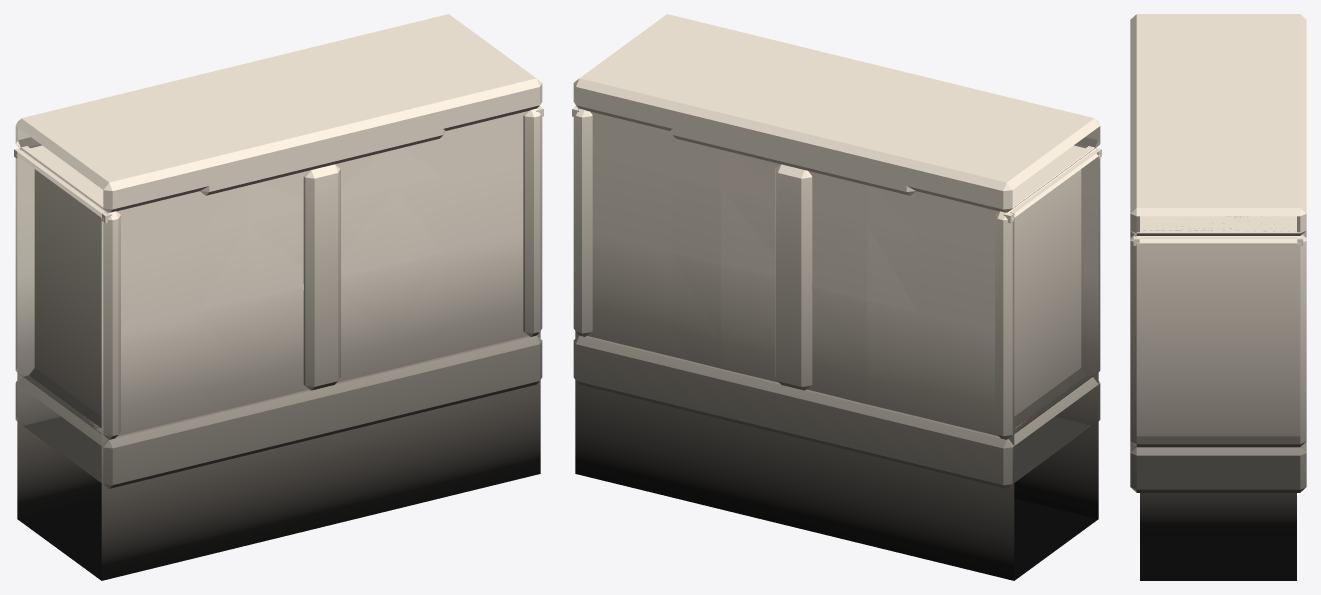
File: SM_VKI_Wall_Timber_Window_150_Cut.fbx
The picture shows the model from 3 angles, left to right: view 1: azimuth 30°, elevation 25°; view 2: azimuth 150°, elevation 25°; view 3: azimuth 270°, elevation 25°; orthographic projection. The views are drawn at different scales.
Parts seen in each view (by area): view 1: SM_VKI_Wall_Timber_Window_150_Cut.001; view 2: SM_VKI_Wall_Timber_Window_150_Cut.001; view 3: SM_VKI_Wall_Timber_Window_150_Cut.001.
Part boxes in pixels (left/top/right/bottom): SM_VKI_Wall_Timber_Window_150_Cut.001: left=14, top=14, right=543, bottom=580; SM_VKI_Wall_Timber_Window_150_Cut.001: left=572, top=14, right=1101, bottom=580; SM_VKI_Wall_Timber_Window_150_Cut.001: left=1130, top=14, right=1306, bottom=580.
Bounding box in the file's own units: 1.5 × 1.3 × 0.56.
